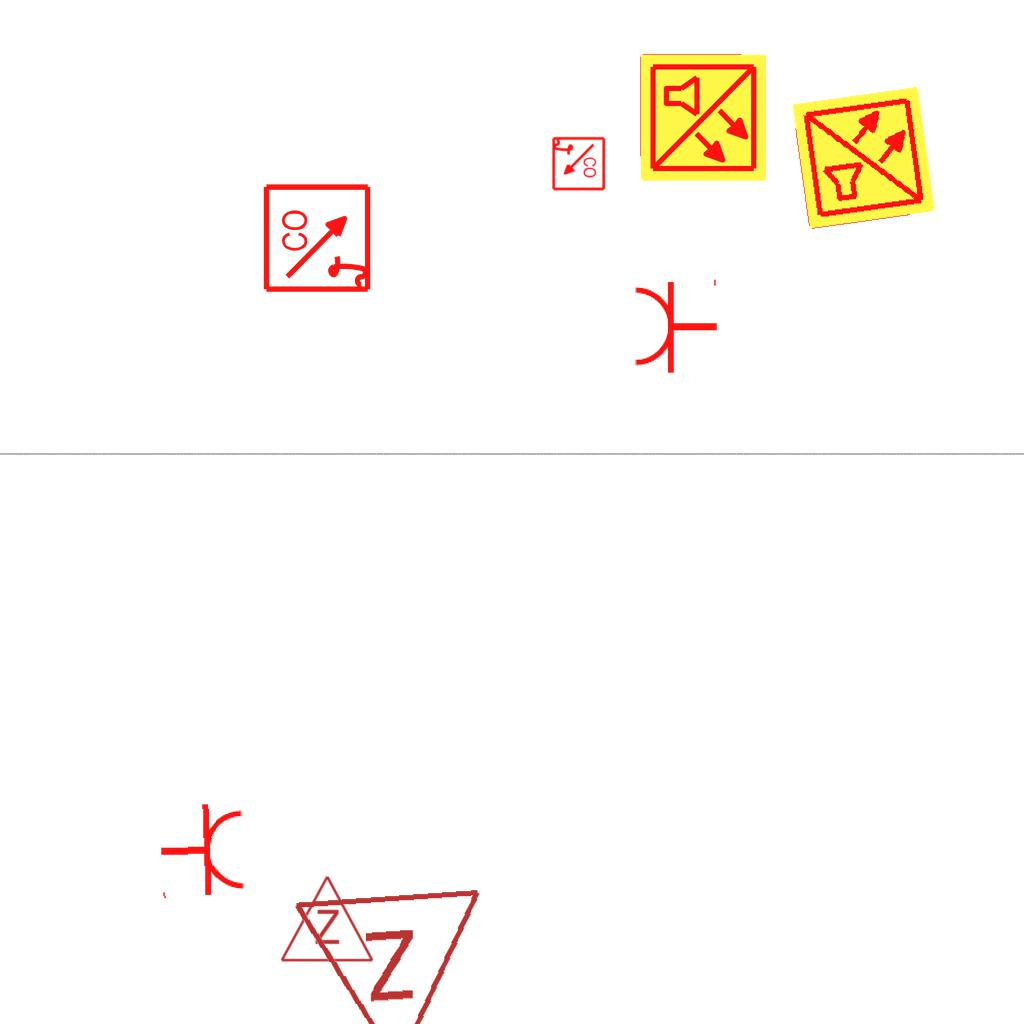OKW_Multisensormelder_(Kombination_optischer_Rauch-Kahlenmonoxid_Waerme-Melder): (789, 83, 939, 233), (637, 52, 769, 184)
ROA_Rauchmelder_optisch_mit_Signalgeber_(Sockelsirene): (262, 181, 375, 294), (550, 136, 606, 192)
Schukosteckdose_einfach: (157, 800, 248, 904), (632, 275, 719, 375)
Zimmersignalleuchte: (290, 874, 500, 1024), (277, 869, 375, 969)
